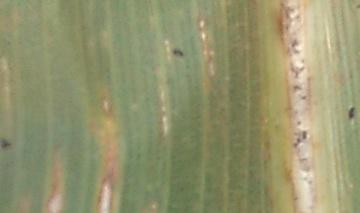tarspot: (279, 1, 301, 21), (288, 62, 305, 80), (1, 136, 14, 151), (346, 105, 357, 122), (288, 35, 300, 49), (169, 47, 184, 58), (300, 129, 308, 142), (291, 84, 302, 93), (293, 137, 300, 149), (299, 93, 307, 102), (283, 22, 290, 32), (294, 119, 302, 127), (354, 1, 360, 11)
